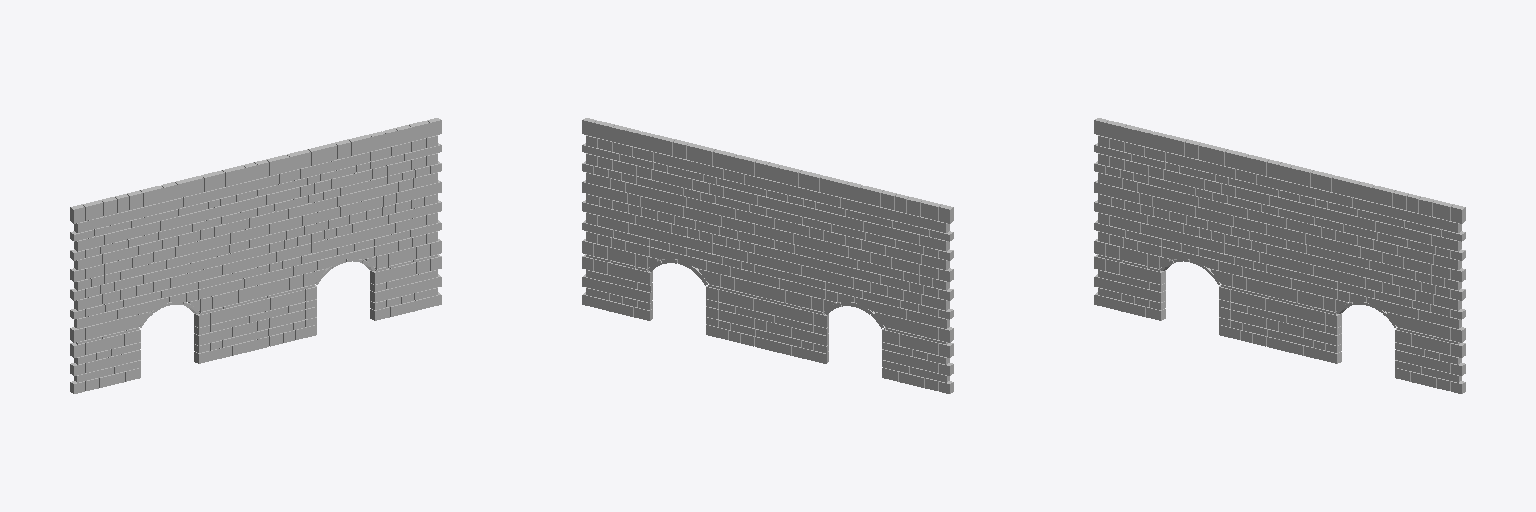
The model's file is wallRock.obj.
3 renders of one model, left to right at view 1: azimuth 30°, elevation 25°; view 2: azimuth 150°, elevation 25°; view 3: azimuth 330°, elevation 25°, orthographic.
Parts seen in each view (by area): view 1: Wall; view 2: Wall; view 3: Wall.
Part boxes in pixels (x1,y1,x2,y2): Wall: (70, 118, 441, 393); Wall: (582, 118, 953, 393); Wall: (1094, 118, 1465, 393).
Size of the model in its own units: 62.51 by 30 by 1.12.